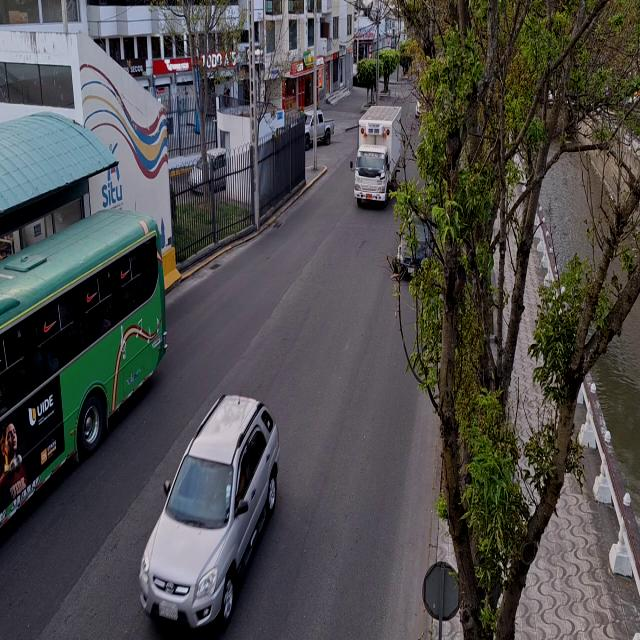BUS: (0, 212, 156, 600)
SUV: (143, 396, 280, 633)
TRUCK: (353, 106, 401, 206)
